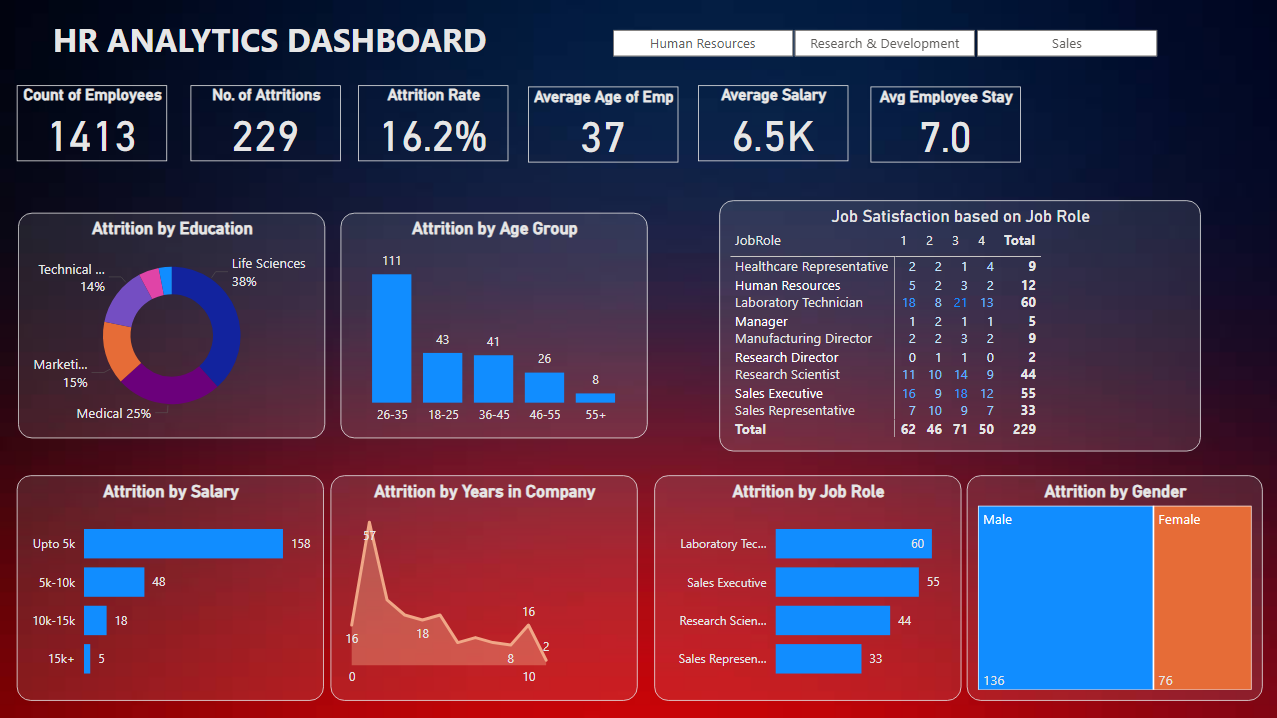

This screenshot's page, from the dashboard's own definition file:
{"tool":"powerbi","page":{"name":"Page 1","canvas":[1280,720],"ordinal":0},"visuals":[{"type":"card","title":"Count of Employees","fields":{"Values":["CountNonNull(HR_Analytics.EmpID)"]},"box":[18.6,85.7,150,75.7],"z":0},{"type":"card","title":"Attrition Rate","fields":{"Values":["HR_Analytics.AttritionRate"]},"box":[360,85.7,150,75.7],"z":2},{"type":"card","title":"Average Age of Emp","fields":{"Values":["Avg(HR_Analytics.Age)"]},"box":[530,87.1,150,75.7],"z":3},{"type":"card","title":"No. of Attritions","fields":{"Values":["Sum(HR_Analytics.AttritionCount)"]},"box":[192.9,85.7,150,75.7],"z":4},{"type":"card","title":"Average Salary ","fields":{"Values":["Avg(HR_Analytics.MonthlyIncome)"]},"box":[700,85.7,150,75.7],"z":5},{"type":"card","title":"Avg Employee Stay","fields":{"Values":["Avg(HR_Analytics.YearsAtCompany)"]},"box":[872.9,87.1,150,75.7],"z":6},{"type":"donutChart","title":"Attrition by Education","fields":{"Category":["HR_Analytics.EducationField"],"Y":["Sum(HR_Analytics.AttritionCount)"]},"box":[20,214.3,307.1,225.7],"z":7},{"type":"columnChart","title":"Attrition by Age Group","fields":{"Category":["HR_Analytics.AgeGroup"],"Y":["Sum(HR_Analytics.AttritionCount)"]},"box":[342.9,214.3,307.1,225.7],"z":8},{"type":"pivotTable","title":"Job Satisfaction based on Job Role","fields":{"Rows":["HR_Analytics.JobRole"],"Columns":["HR_Analytics.JobSatisfaction"],"Values":["Sum(HR_Analytics.AttritionCount)"]},"box":[721.4,201.4,481.4,251.4],"z":9},{"type":"barChart","title":"Attrition by Salary","fields":{"Category":["HR_Analytics.SalarySlab"],"Y":["Sum(HR_Analytics.AttritionCount)"]},"box":[18.6,475.7,307.1,225.7],"z":10},{"type":"barChart","title":"Attrition by Job Role","fields":{"Category":["HR_Analytics.JobRole"],"Y":["Sum(HR_Analytics.AttritionCount)"]},"box":[655.7,475.7,307.1,225.7],"z":11},{"type":"areaChart","title":"Attrition by Years in Company","fields":{"Category":["HR_Analytics.YearsAtCompany"],"Y":["Sum(HR_Analytics.AttritionCount)"]},"box":[332.9,475.7,307.1,225.7],"z":12},{"type":"treemap","title":"Attrition by Gender","fields":{"Group":["HR_Analytics.Gender"],"Values":["Sum(HR_Analytics.AttritionCount)"]},"box":[968.6,475.7,295.7,225.7],"z":13},{"type":"slicer","fields":{"Values":["HR_Analytics.Department"]},"box":[588.6,24.3,594.3,40],"z":14},{"type":"textbox","box":[34.3,14.3,475.7,65.7],"z":15}]}

Visuals, with their boxes in screenshot pixels (x1, y1, x2, y2), scaled from the page's 1280x720 canvas onto the 1277x718 screenshot:
"Count of Employees" card: <box>19,85,168,161</box>
"Attrition Rate" card: <box>359,85,509,161</box>
"Average Age of Emp" card: <box>529,87,678,162</box>
"No. of Attritions" card: <box>192,85,342,161</box>
"Average Salary " card: <box>698,85,848,161</box>
"Avg Employee Stay" card: <box>871,87,1021,162</box>
"Attrition by Education" donutChart: <box>20,214,326,439</box>
"Attrition by Age Group" columnChart: <box>342,214,648,439</box>
"Job Satisfaction based on Job Role" pivotTable: <box>720,201,1200,452</box>
"Attrition by Salary" barChart: <box>19,474,325,699</box>
"Attrition by Job Role" barChart: <box>654,474,961,699</box>
"Attrition by Years in Company" areaChart: <box>332,474,638,699</box>
"Attrition by Gender" treemap: <box>966,474,1261,699</box>
slicer - HR_Analytics.Department: <box>587,24,1180,64</box>
textbox: <box>34,14,509,80</box>
